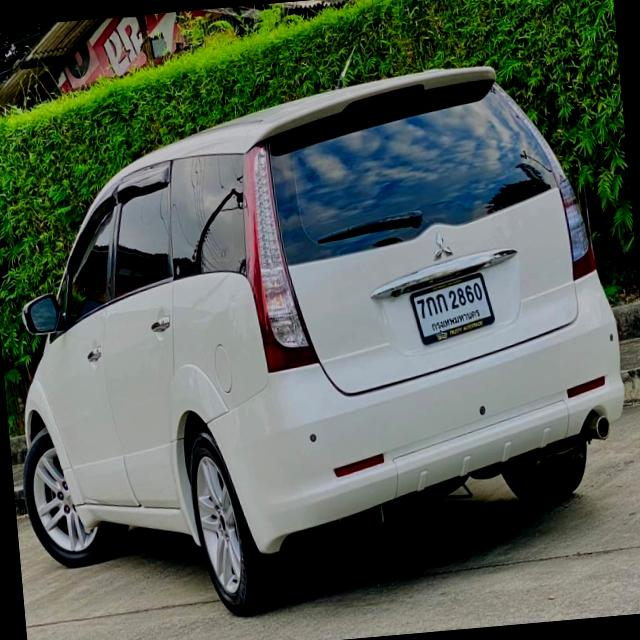license_plate: (409, 270, 496, 346)
